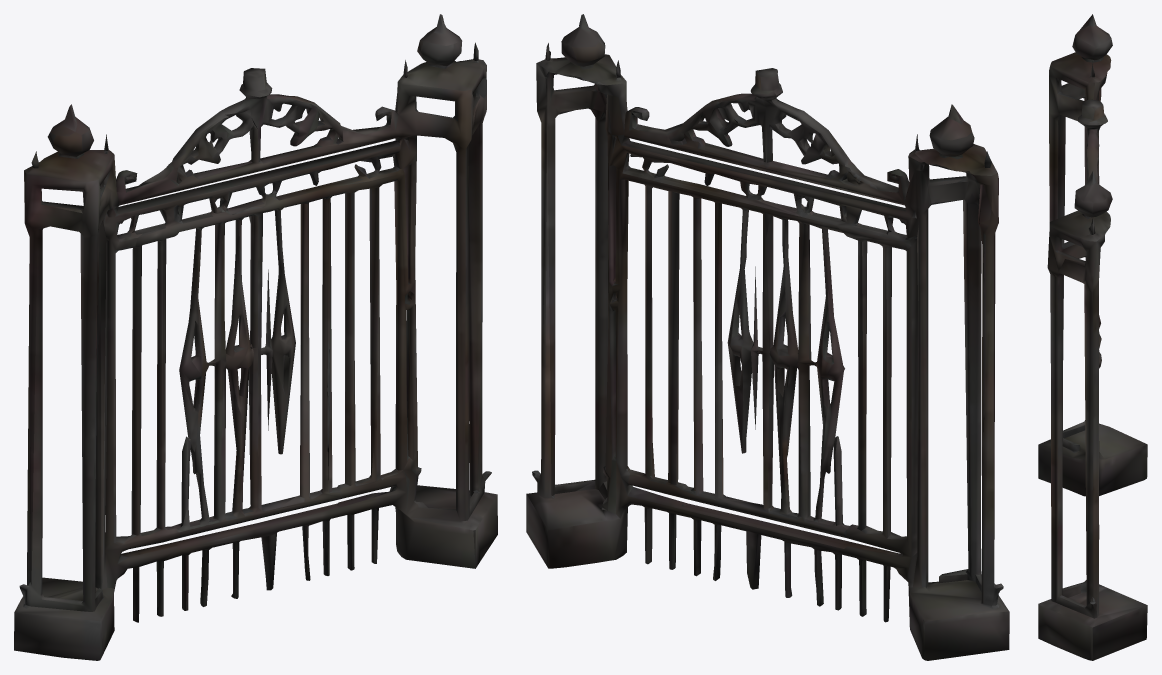
Rendered from old-iron-iron-gate-v002.glb.
3 views of the same model, side by side, from view 1: azimuth 30°, elevation 25°; view 2: azimuth 150°, elevation 25°; view 3: azimuth 270°, elevation 25° (orthographic). The views are drawn at different scales.
Parts seen in each view (by area): view 1: old-iron-iron-gate; view 2: old-iron-iron-gate; view 3: old-iron-iron-gate.
Part boxes in pixels (x1,y1,x2,y2): old-iron-iron-gate: (14, 14, 497, 660); old-iron-iron-gate: (526, 14, 1009, 660); old-iron-iron-gate: (1038, 14, 1147, 660).
Size of the model in its own units: 2.36 by 2.49 by 0.5292.
Materials: 1 (1 with a texture image).
